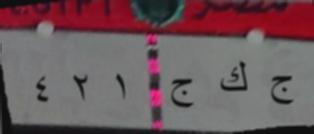1: (108, 67, 133, 107)
2: (71, 70, 92, 107)
4: (28, 69, 52, 105)
jeem: (166, 72, 198, 114), (265, 71, 296, 109)
kaaf: (220, 57, 249, 99)
